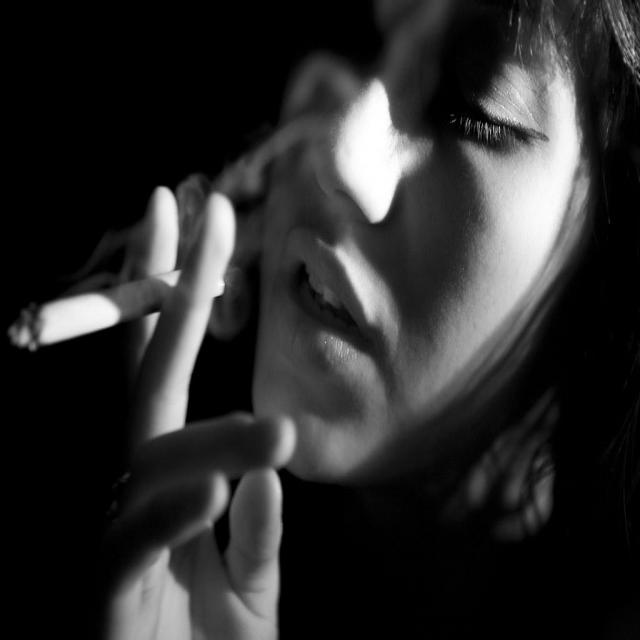Сигарета: (16, 270, 226, 349)
Тело: (118, 24, 582, 640)
